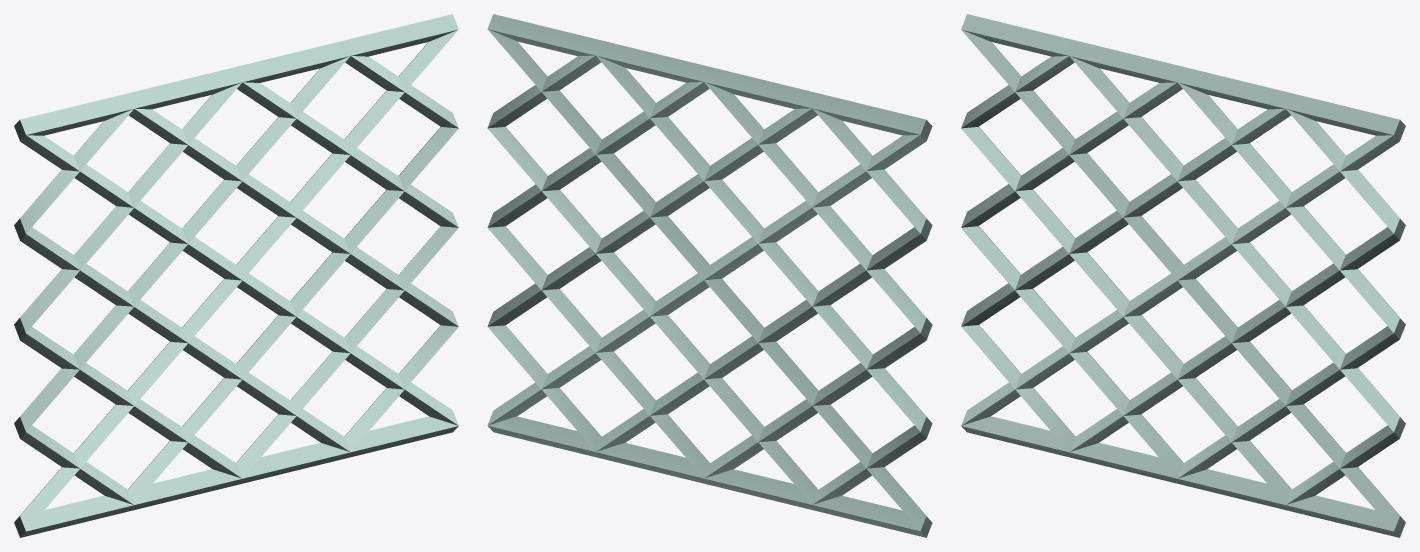
Rendered from fence_mesh.fbx.
The picture shows the model from 3 angles, left to right: view 1: azimuth 30°, elevation 25°; view 2: azimuth 150°, elevation 25°; view 3: azimuth 330°, elevation 25°; orthographic projection.
Parts seen in each view (by area): view 1: fence_mesh; view 2: fence_mesh; view 3: fence_mesh.
Part boxes in pixels (x1,y1,x2,y2): fence_mesh: [14, 14, 458, 537]; fence_mesh: [487, 14, 932, 537]; fence_mesh: [961, 14, 1405, 537].
Bounding box in the file's own units: 200 × 185 × 9.63.
